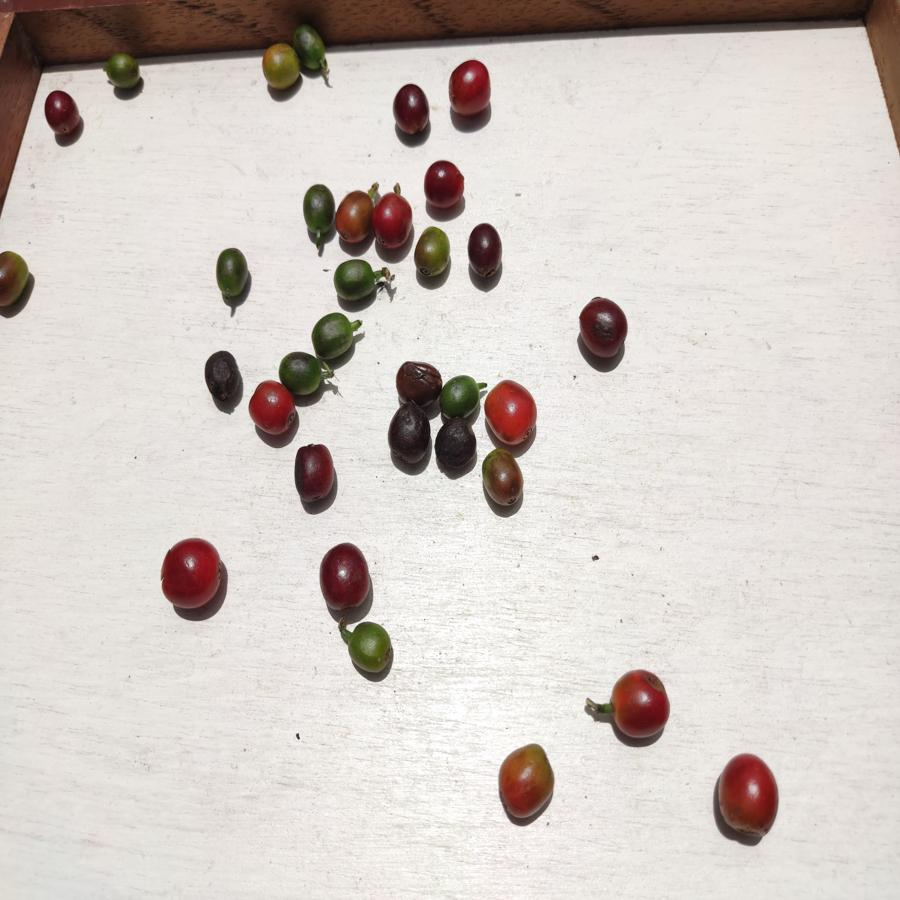Inmaduro: (343, 619, 397, 680), (311, 313, 361, 361), (333, 257, 380, 303), (215, 248, 253, 302), (280, 351, 325, 395), (301, 183, 335, 239), (441, 373, 481, 418), (295, 26, 330, 77), (103, 49, 144, 91)
Maduro: (715, 750, 779, 840), (608, 667, 673, 743), (160, 538, 222, 611), (484, 379, 540, 447), (248, 379, 295, 438), (449, 59, 493, 121), (373, 189, 413, 247)
Pinton: (497, 742, 557, 823), (481, 448, 525, 507), (259, 41, 301, 93), (413, 225, 453, 277), (335, 191, 373, 245), (1, 250, 33, 312)
Sobremaduro: (318, 541, 373, 616), (577, 295, 629, 359), (387, 403, 432, 467), (294, 443, 338, 508), (389, 82, 433, 138), (467, 223, 509, 281), (395, 359, 441, 410), (436, 417, 477, 471), (204, 349, 243, 404), (423, 159, 465, 208), (41, 89, 83, 137)
